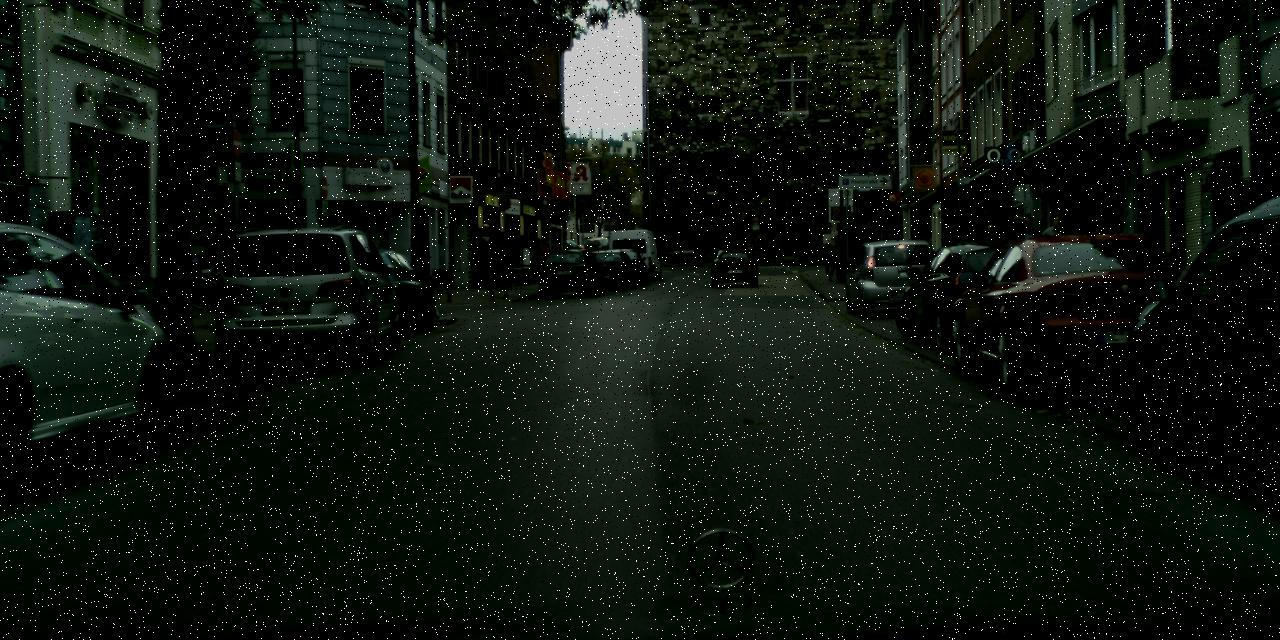ped: (1038, 214, 1072, 298), (1012, 214, 1045, 295), (978, 223, 999, 273), (994, 228, 1012, 274), (826, 236, 844, 280), (535, 237, 551, 277), (540, 241, 554, 276), (770, 233, 781, 263), (758, 237, 769, 264), (740, 235, 750, 263), (820, 243, 826, 261)
